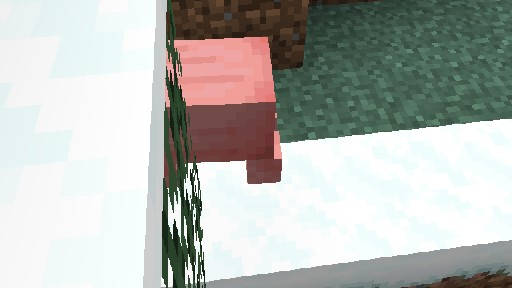pig: (43, 30, 282, 199)
